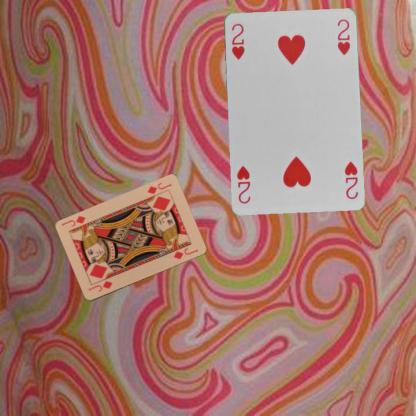2h: (341, 158, 359, 200), (228, 20, 245, 61)
Jd: (85, 278, 114, 294), (144, 180, 173, 196)
